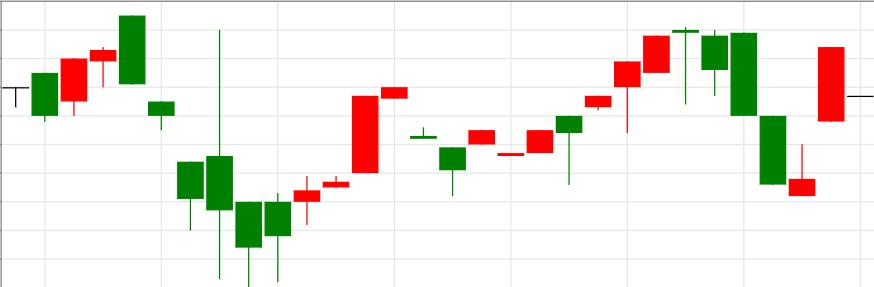hammer_rise: (440, 61, 641, 196)
